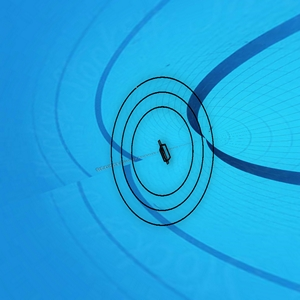circle: (108, 72, 218, 232)
submarine: (157, 140, 174, 165)
